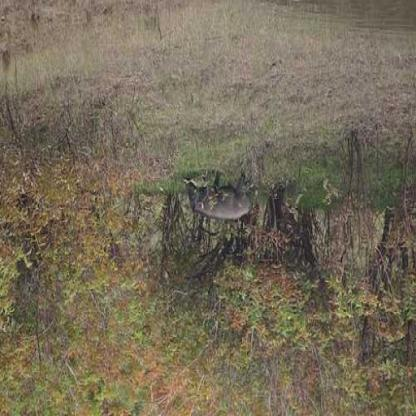boar: (174, 151, 301, 243)
